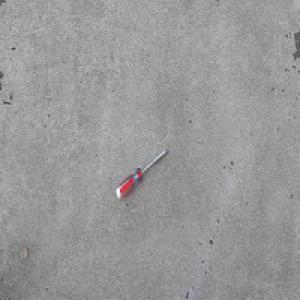Screwdriver: (115, 147, 169, 200)
